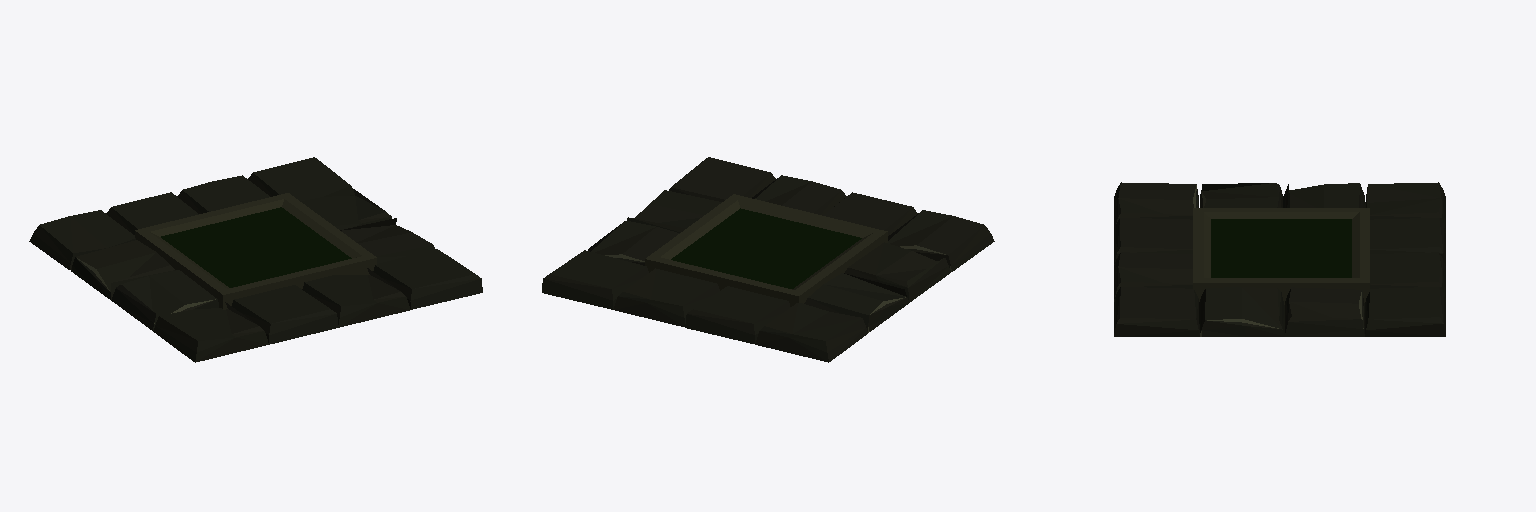
File: Floor_Tree.obj
3 renders of one model, left to right at view 1: azimuth 30°, elevation 25°; view 2: azimuth 150°, elevation 25°; view 3: azimuth 270°, elevation 25°, orthographic.
Visible parts, largest first — view 1: Floor_Tree_Cube.035; view 2: Floor_Tree_Cube.035; view 3: Floor_Tree_Cube.035.
Part boxes in pixels (x1,y1,x2,y2): Floor_Tree_Cube.035: (29, 157, 482, 362); Floor_Tree_Cube.035: (542, 157, 994, 362); Floor_Tree_Cube.035: (1114, 182, 1445, 336).
Size of the model in its own units: 1.99 by 0.1484 by 2.